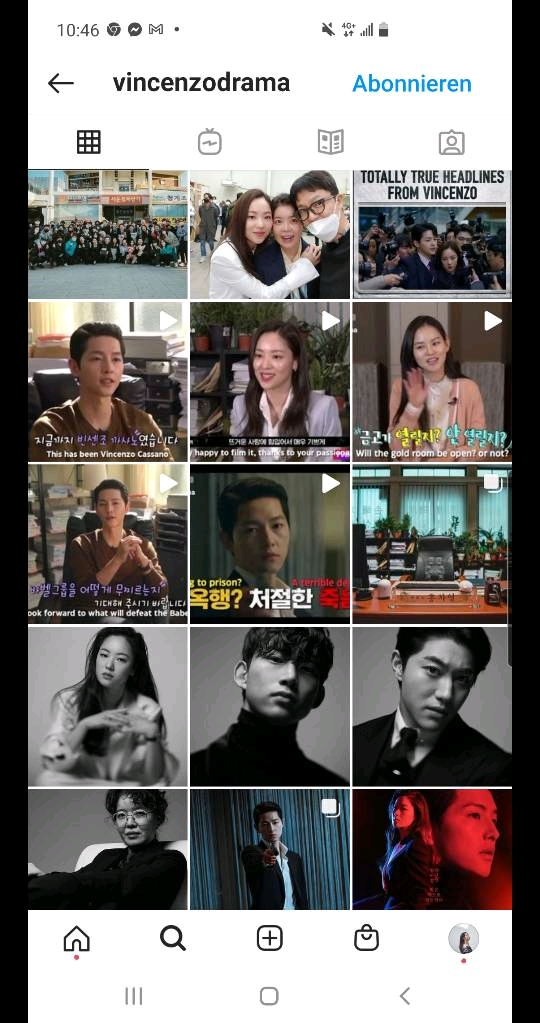back: (41, 59, 83, 105)
icon_nav: (55, 915, 195, 961)
